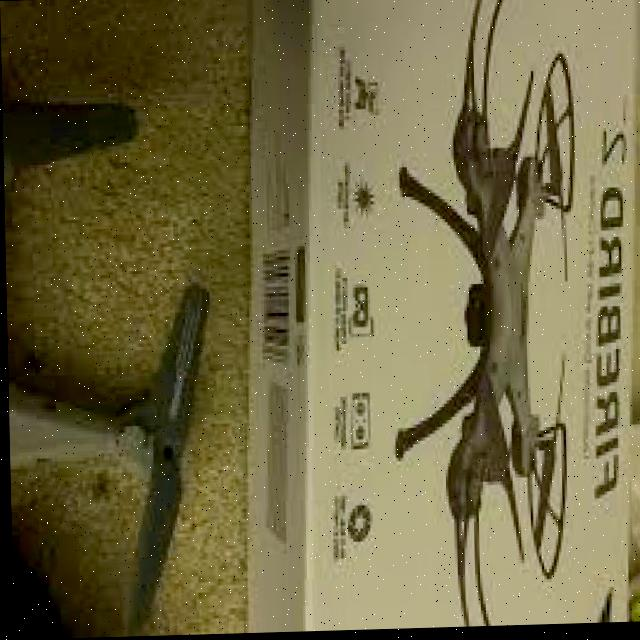drone: (388, 0, 583, 631)
